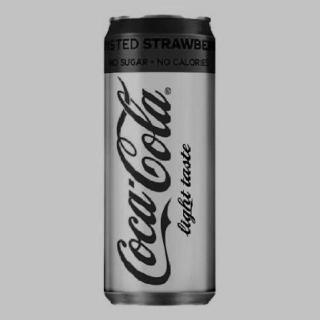alumunium_can: (102, 13, 218, 309)
